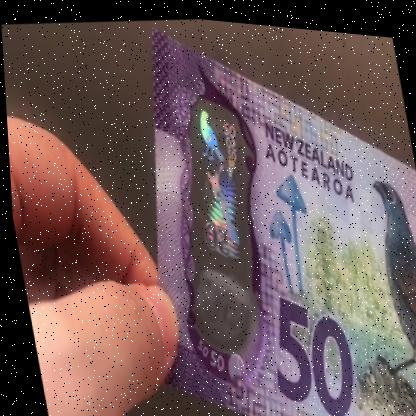50B: (165, 94, 269, 340)
